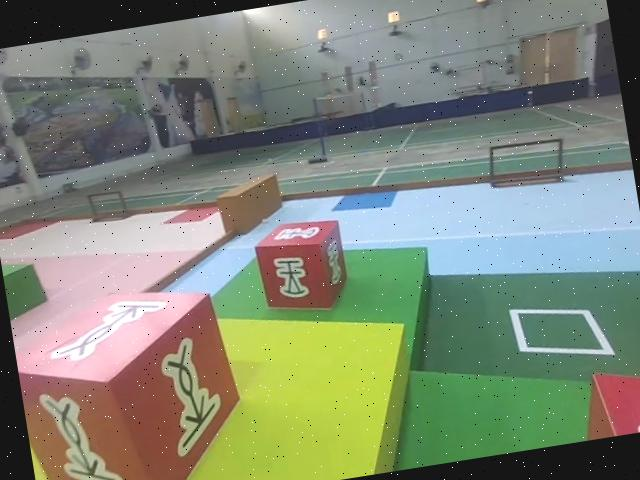R2 Real: (6, 269, 259, 480), (248, 211, 354, 320)
